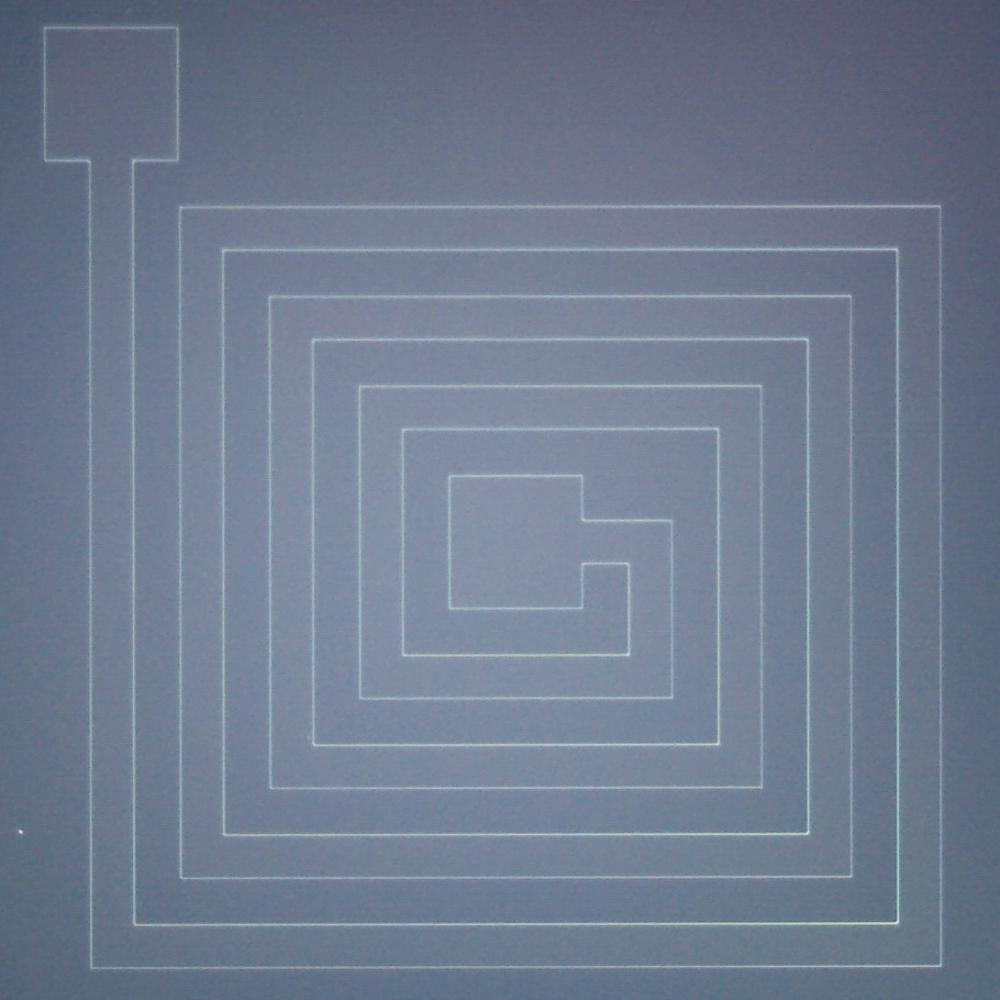dot: (18, 829, 24, 835)
